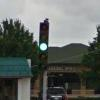Traffic light: (30, 16, 57, 70)
